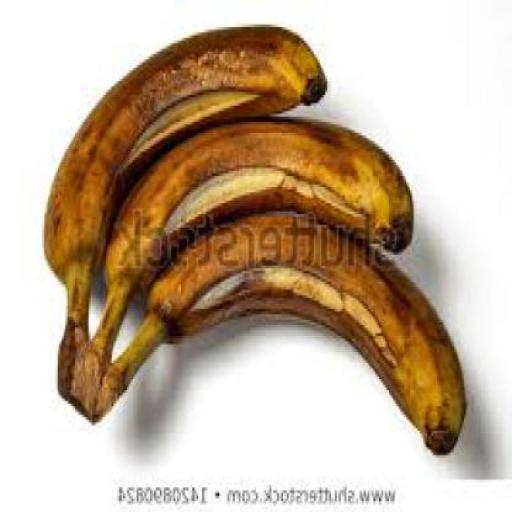biodegradable: (44, 19, 329, 398), (71, 112, 418, 414), (96, 211, 468, 455)
